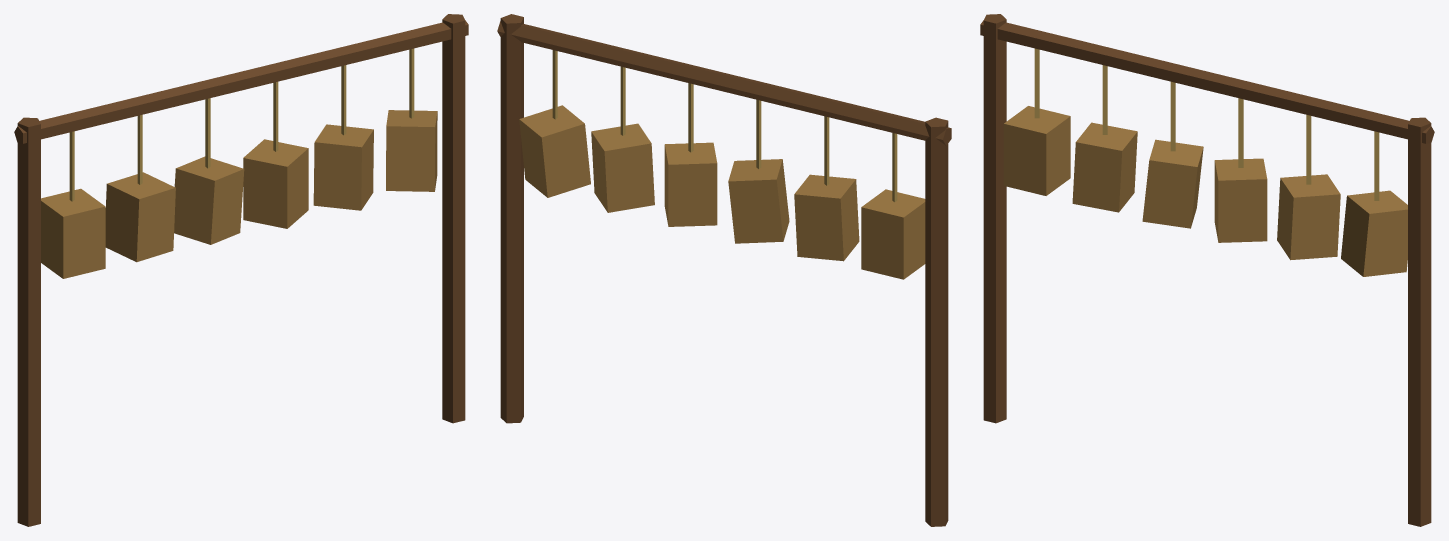
File: prop_life_meju_rack.glb
3 renders of one model, left to right at view 1: azimuth 30°, elevation 25°; view 2: azimuth 150°, elevation 25°; view 3: azimuth 330°, elevation 25°, orthographic.
Visible parts, largest first — view 1: prop_life_meju_rack; view 2: prop_life_meju_rack; view 3: prop_life_meju_rack.
Boxes of the visible parts, bbox=[...] form: prop_life_meju_rack: bbox=[14, 14, 468, 526]; prop_life_meju_rack: bbox=[497, 14, 951, 526]; prop_life_meju_rack: bbox=[980, 14, 1434, 526].
Size of the model in its own units: 2.1 by 1.8 by 0.299.
